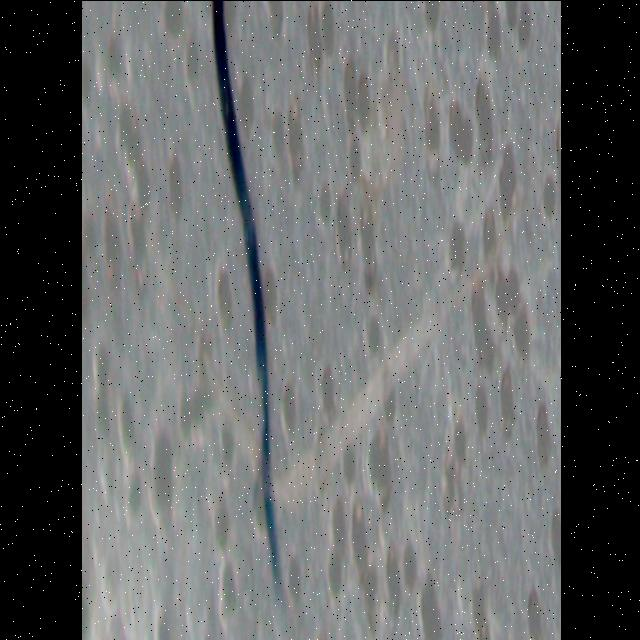Fibre: (138, 196, 536, 518), (208, 0, 298, 640)
